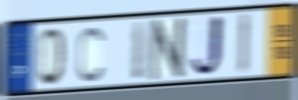0: (37, 27, 66, 87)
C: (76, 25, 105, 85)
I: (131, 19, 147, 84), (237, 11, 252, 77)
J: (189, 13, 226, 80)
N: (147, 14, 190, 83)
